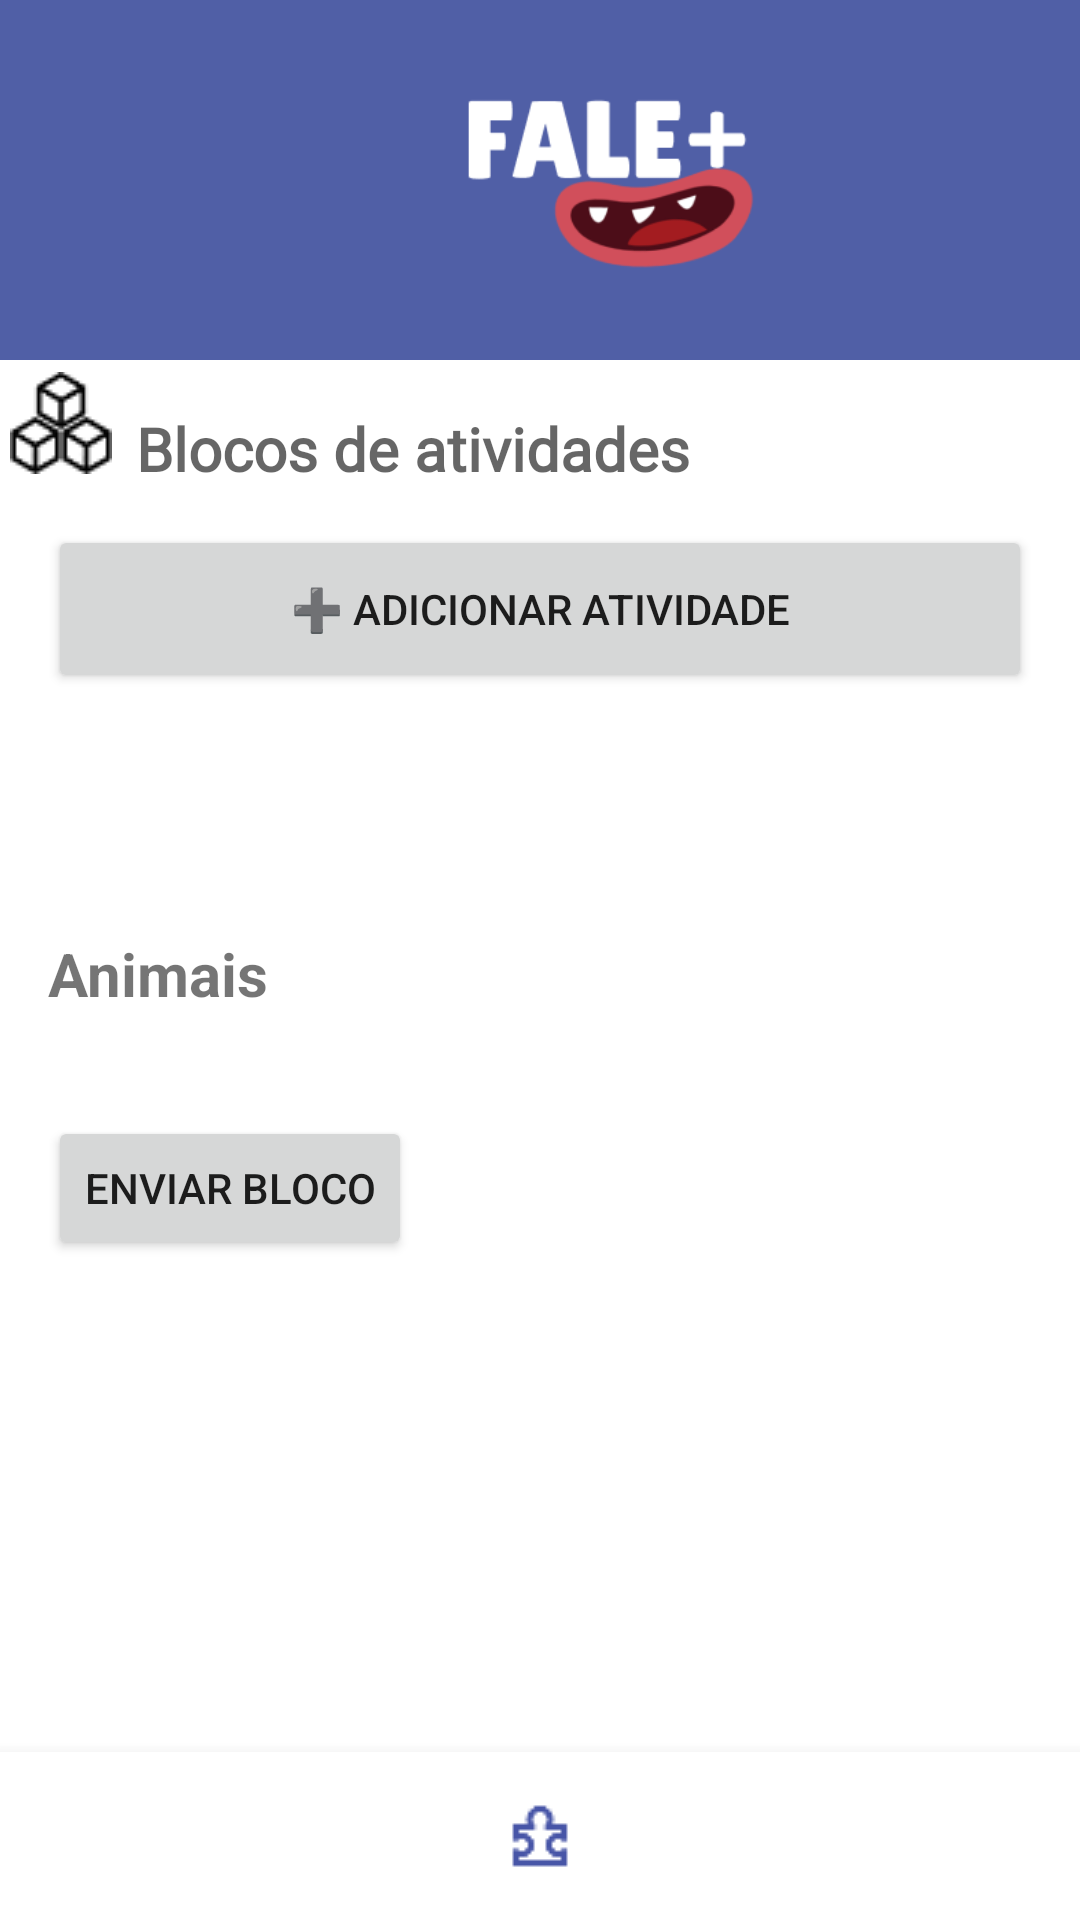

Icons on this 1080 × 1920 Android screen, each with the point to tap as point (x, y):
blocos preto: point (61, 423)
